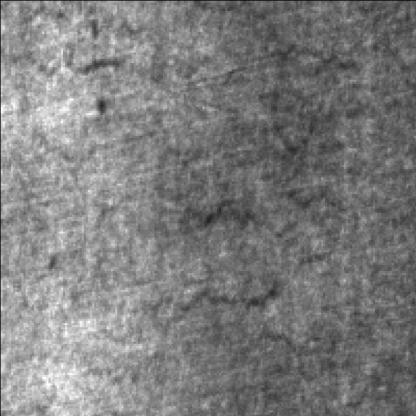crazing: (177, 185, 366, 318), (204, 4, 362, 160)
